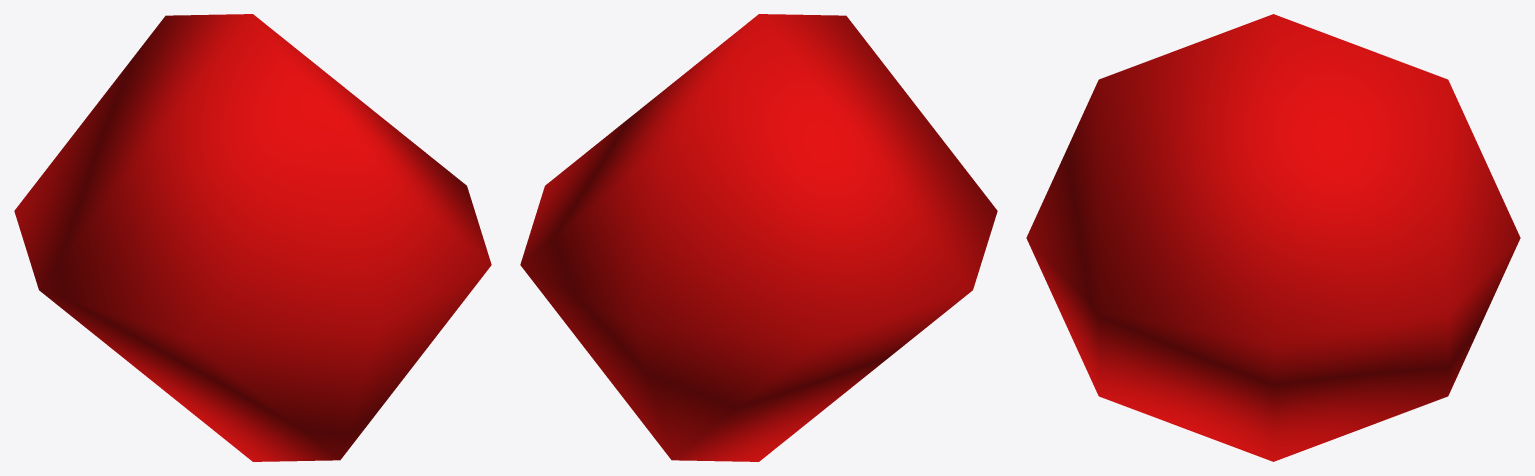
Rendered from bullet3.FBX.
The picture shows the model from 3 angles, left to right: view 1: azimuth 30°, elevation 25°; view 2: azimuth 150°, elevation 25°; view 3: azimuth 270°, elevation 25°; orthographic projection.
Visible parts, largest first — view 1: pea_proj; view 2: pea_proj; view 3: pea_proj.
Part boxes in pixels (x1,y1,x2,y2): pea_proj: (14, 14, 491, 461); pea_proj: (520, 14, 997, 461); pea_proj: (1026, 14, 1520, 461).
Size of the model in its own units: 508 by 508 by 508.
